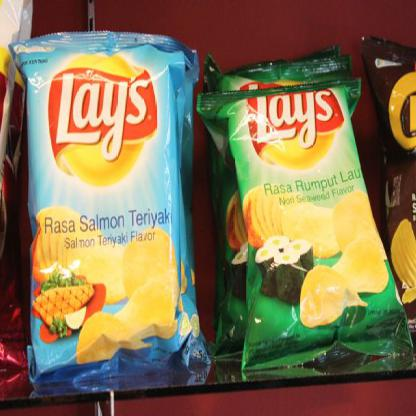potatochip: (7, 26, 216, 402), (184, 72, 416, 392), (187, 39, 364, 363)
